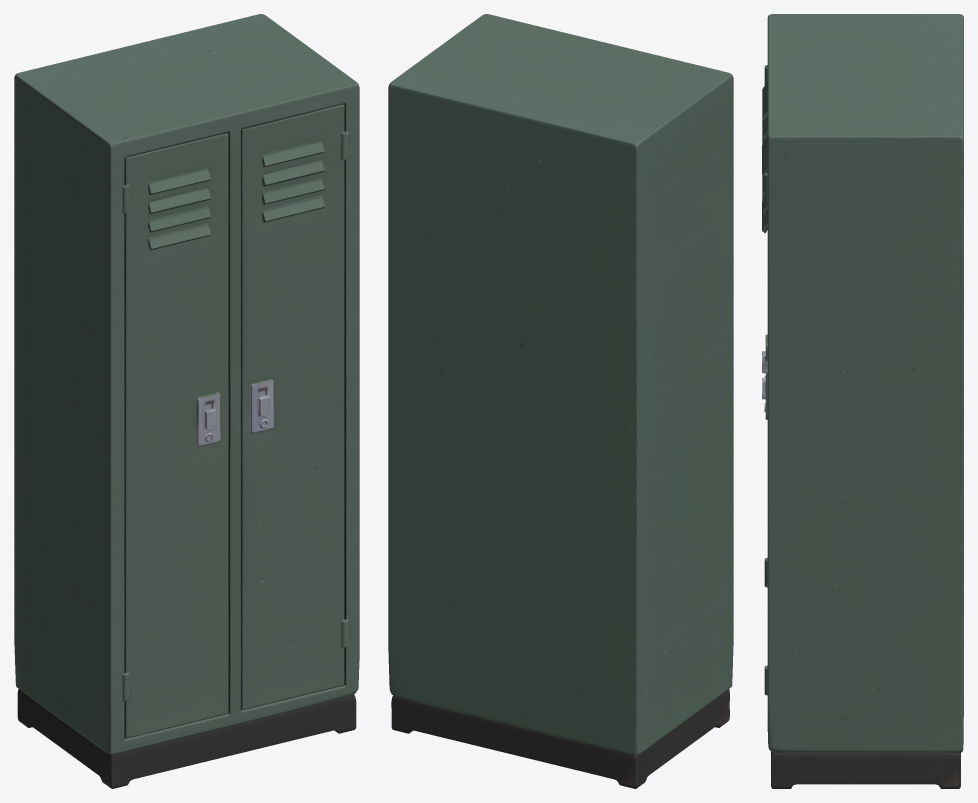
File: locker_unit__hunyuan.glb
3 renders of one model, left to right at view 1: azimuth 30°, elevation 25°; view 2: azimuth 150°, elevation 25°; view 3: azimuth 270°, elevation 25°, orthographic.
Visible parts, largest first — view 1: material; view 2: material; view 3: material.
Part boxes in pixels (x1,y1,x2,y2): material: (14, 14, 359, 788); material: (388, 14, 733, 788); material: (762, 14, 963, 788).
Bounding box in the file's own units: 0.4369 × 1.08 × 0.3023.
Materials: 1 (1 with a texture image).
